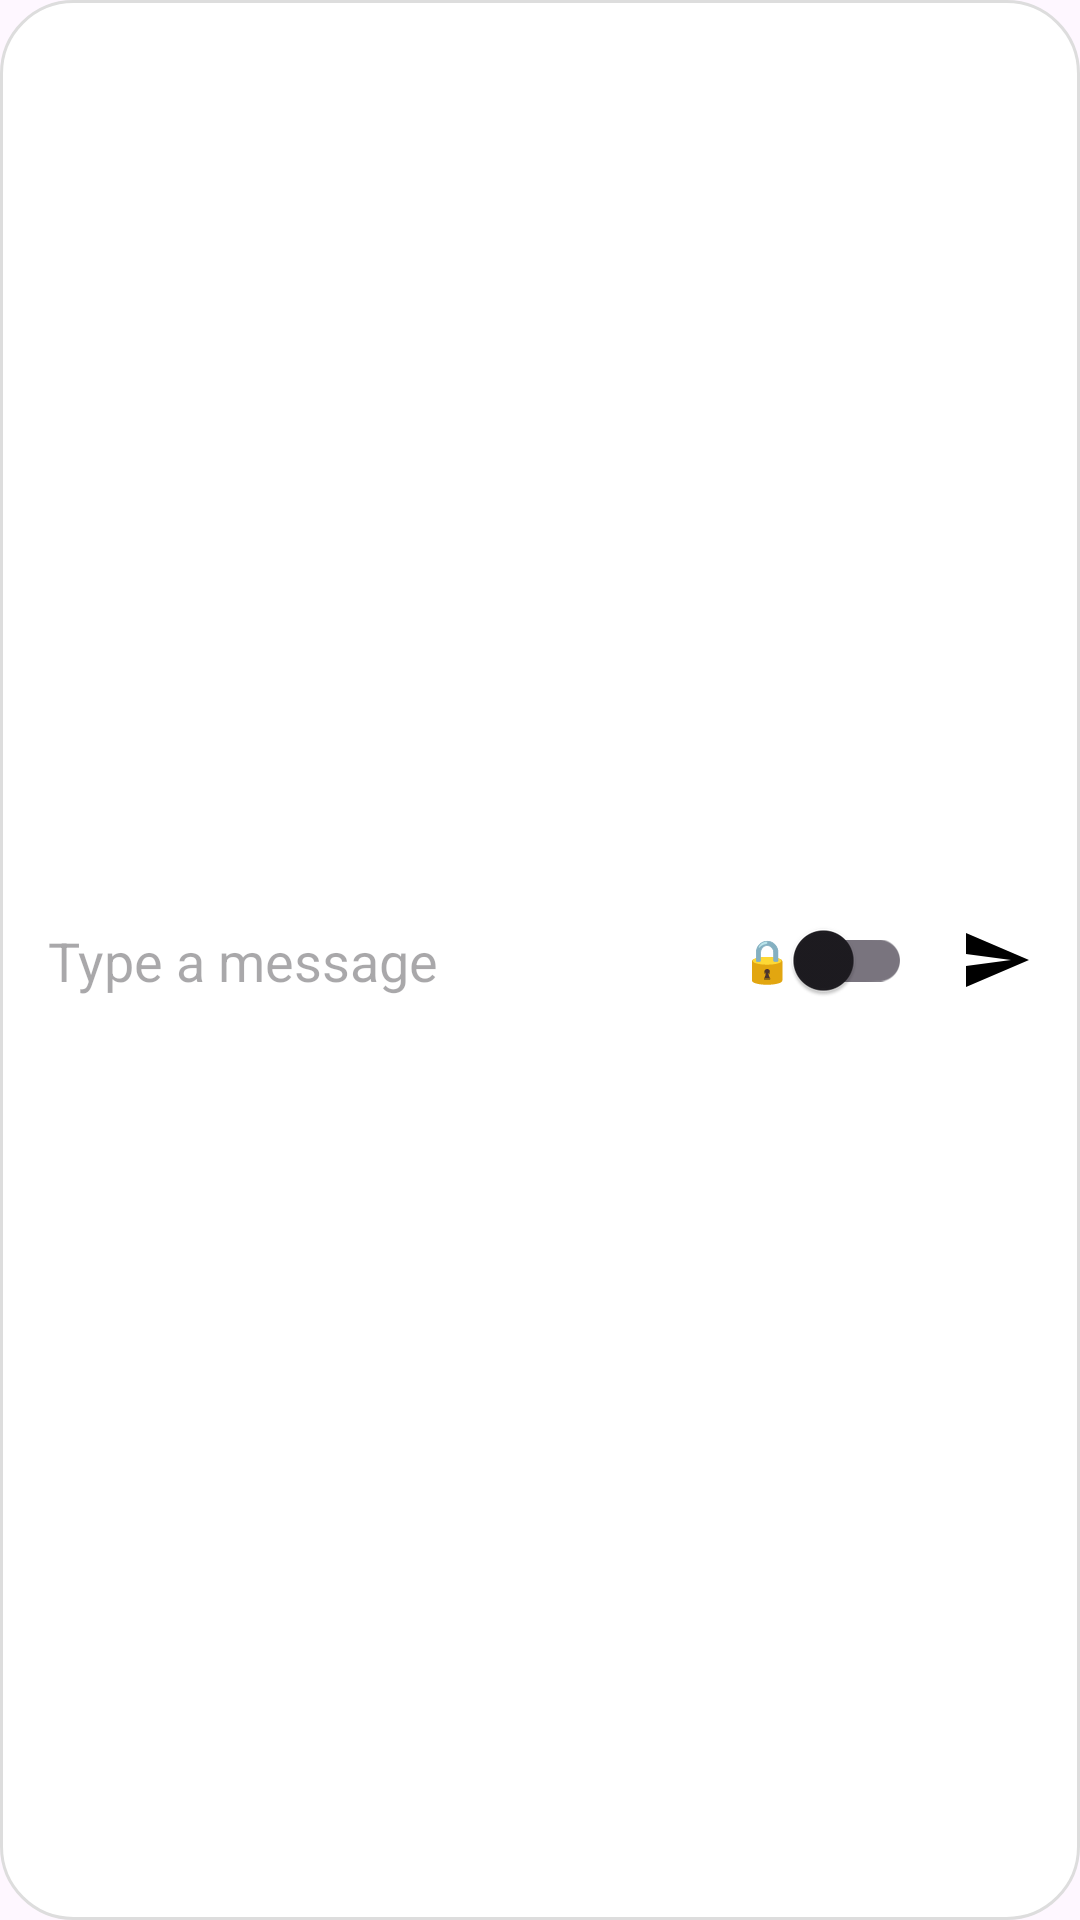

Icons on this 1080 × 1920 Android screen, each with its box as (x1, y1, x2, y2):
Send message: (966, 933, 1029, 987)
